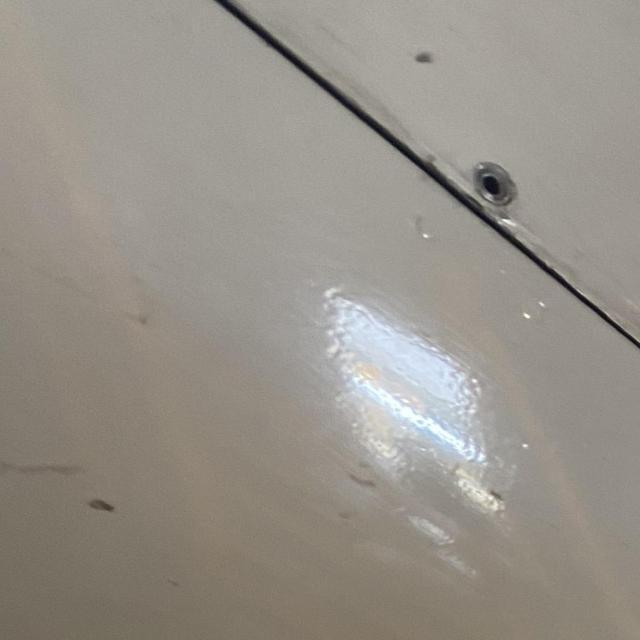Missing-head: (470, 160, 515, 207)
